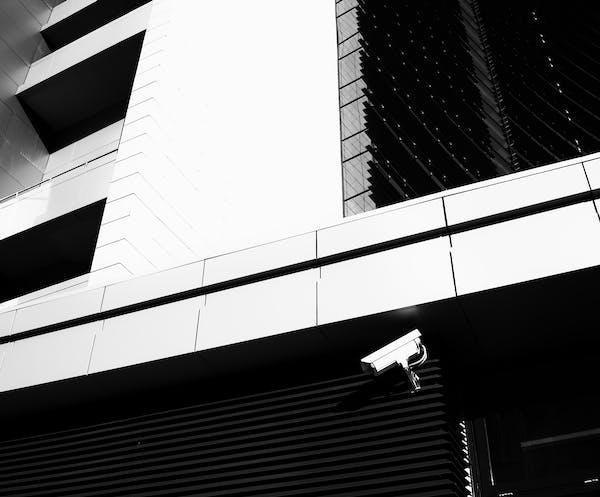camera: (340, 324, 449, 400)
